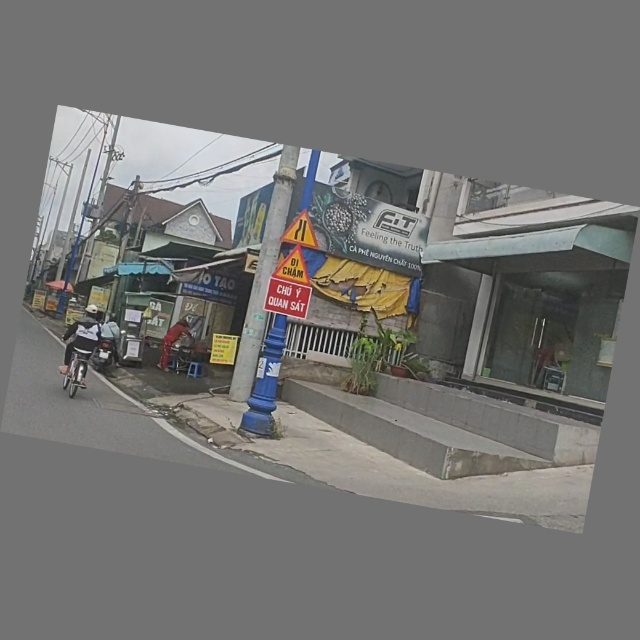W.203b: (278, 205, 326, 251)
W.245a: (271, 243, 319, 287)
